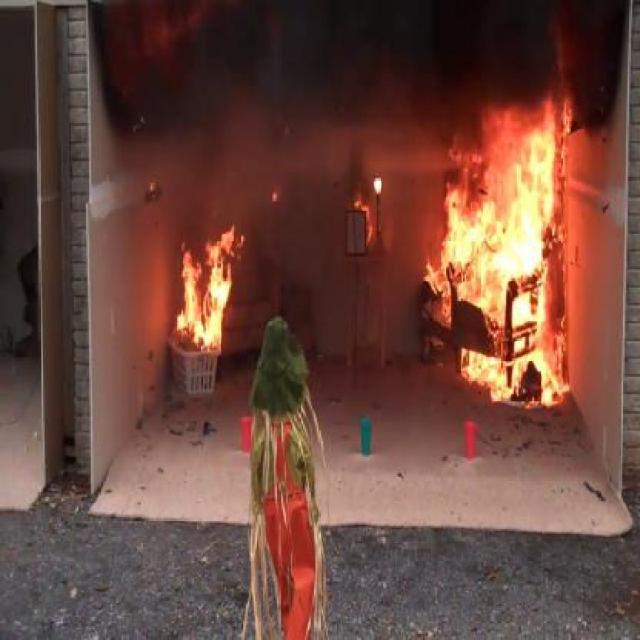fire: (432, 127, 568, 410), (174, 220, 238, 392)
smoke: (114, 15, 550, 109)
